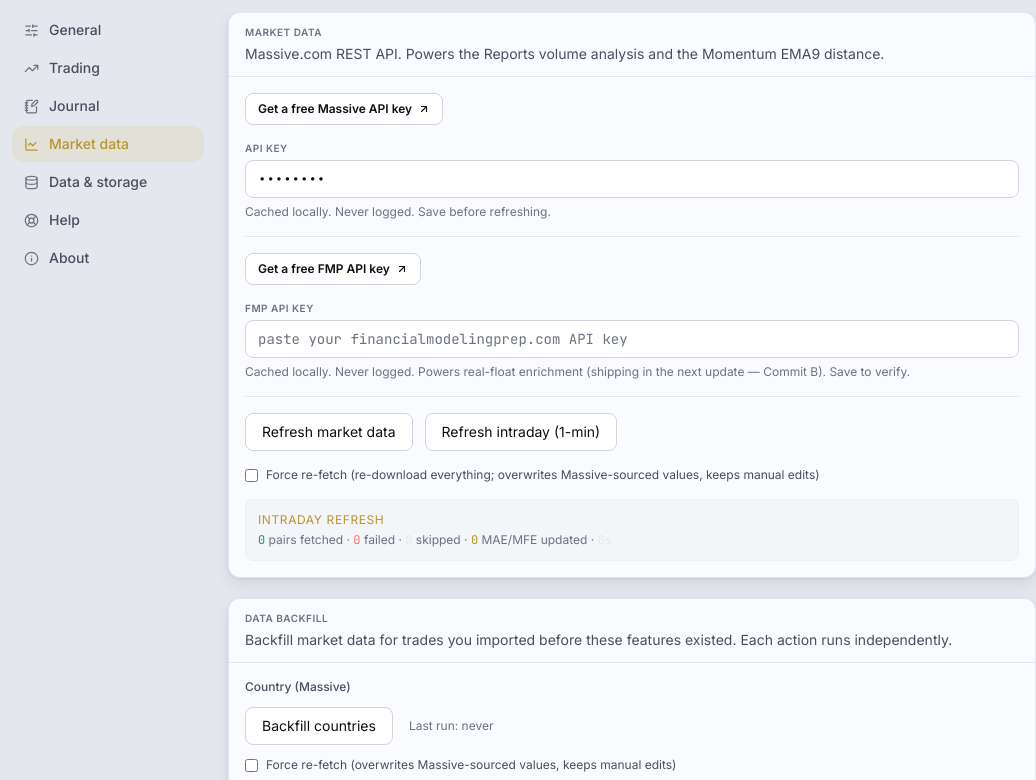
Test: RP6 the button and the completion summary still work › and the completion summary still reports fetched and failed
The width and height of the screenshot is (1036, 780).
Click the button "Refresh intraday (1-min)" at (521, 432), box [425, 413, 617, 451]
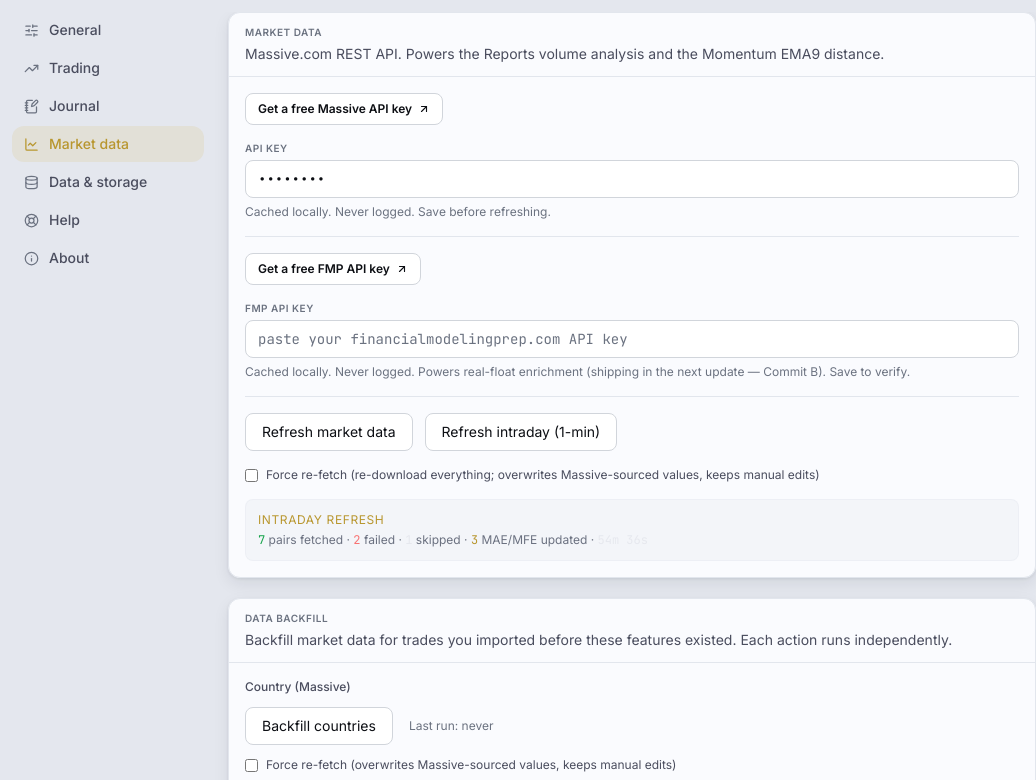
Expected: the text "Intraday refresh" is shown, [258, 512, 384, 527]
Expected: the text "7" is shown, [258, 532, 265, 548]
Expected: the text "2" is shown, [353, 532, 360, 548]
